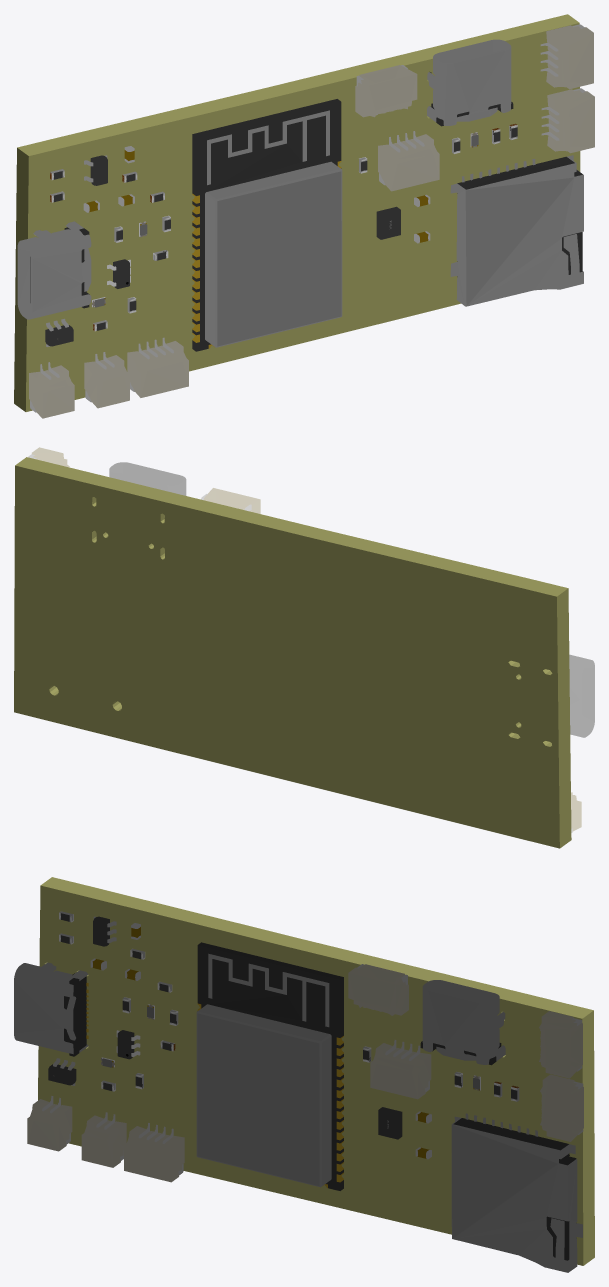
File: OBJ_PCB_esplogger_2.obj
3 views of the same model, one above another, from view 1: azimuth 30°, elevation 25°; view 2: azimuth 150°, elevation 25°; view 3: azimuth 330°, elevation 25° (orthographic).
Size of the model in its own units: 276 by 121 by 22.83.
